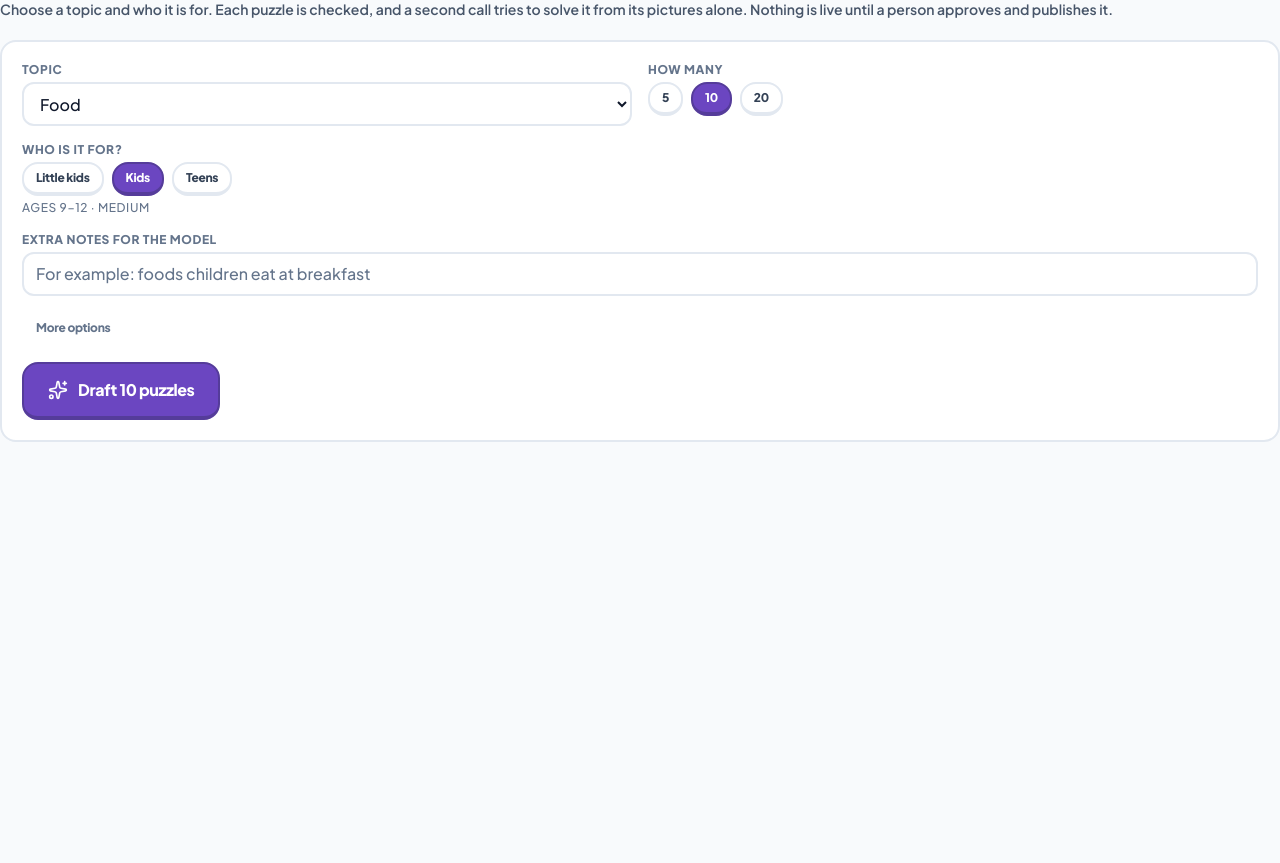
choosing what to keep › approves the ticked puzzles now, and leaves out one that was unticked
Click the button "Draft 10 puzzles" at (121, 391), box [22,362,220,420]
(page scrolled)
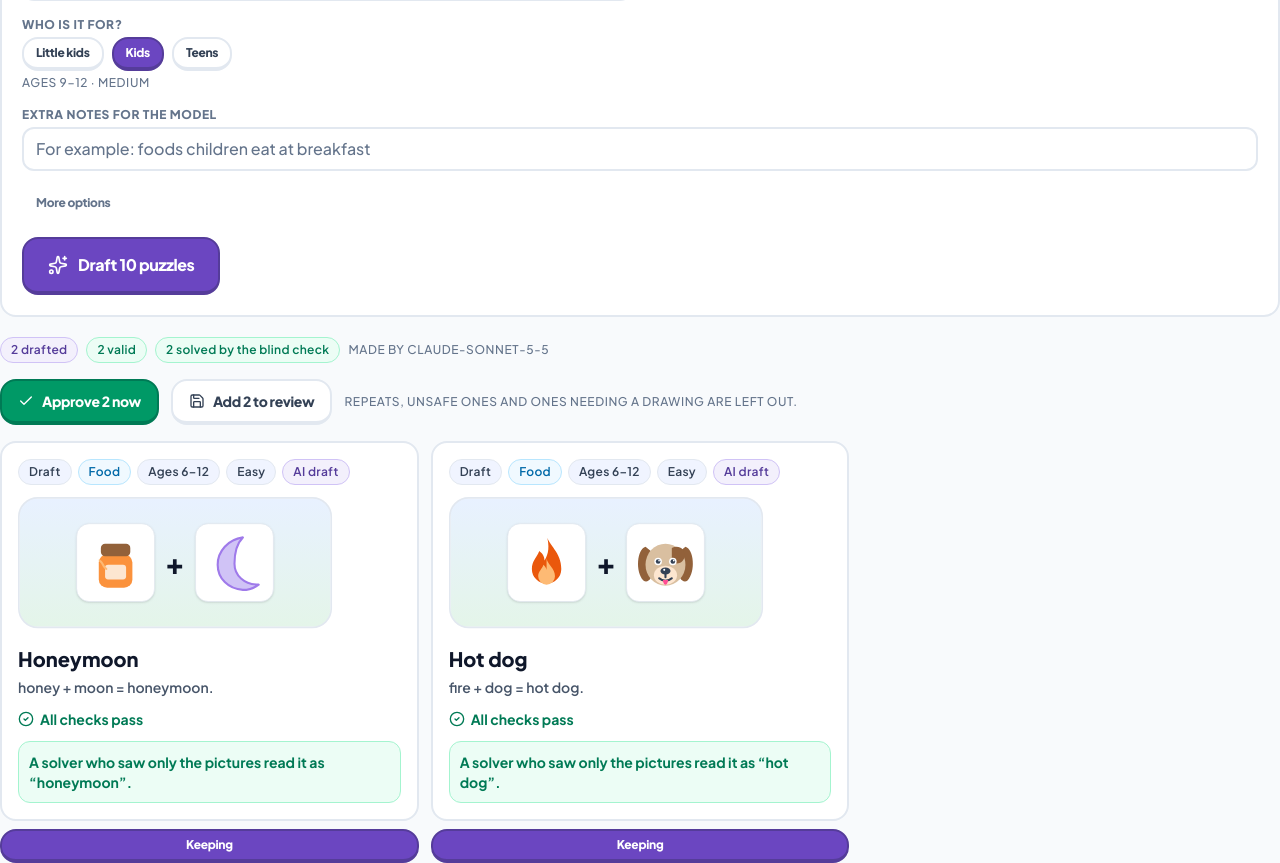
Result: the element "Honeymoon" is shown at [0,441,419,821]
Click the button "Keeping" below "fire + dog = hot dog." at (640, 846), box [431,829,849,862]
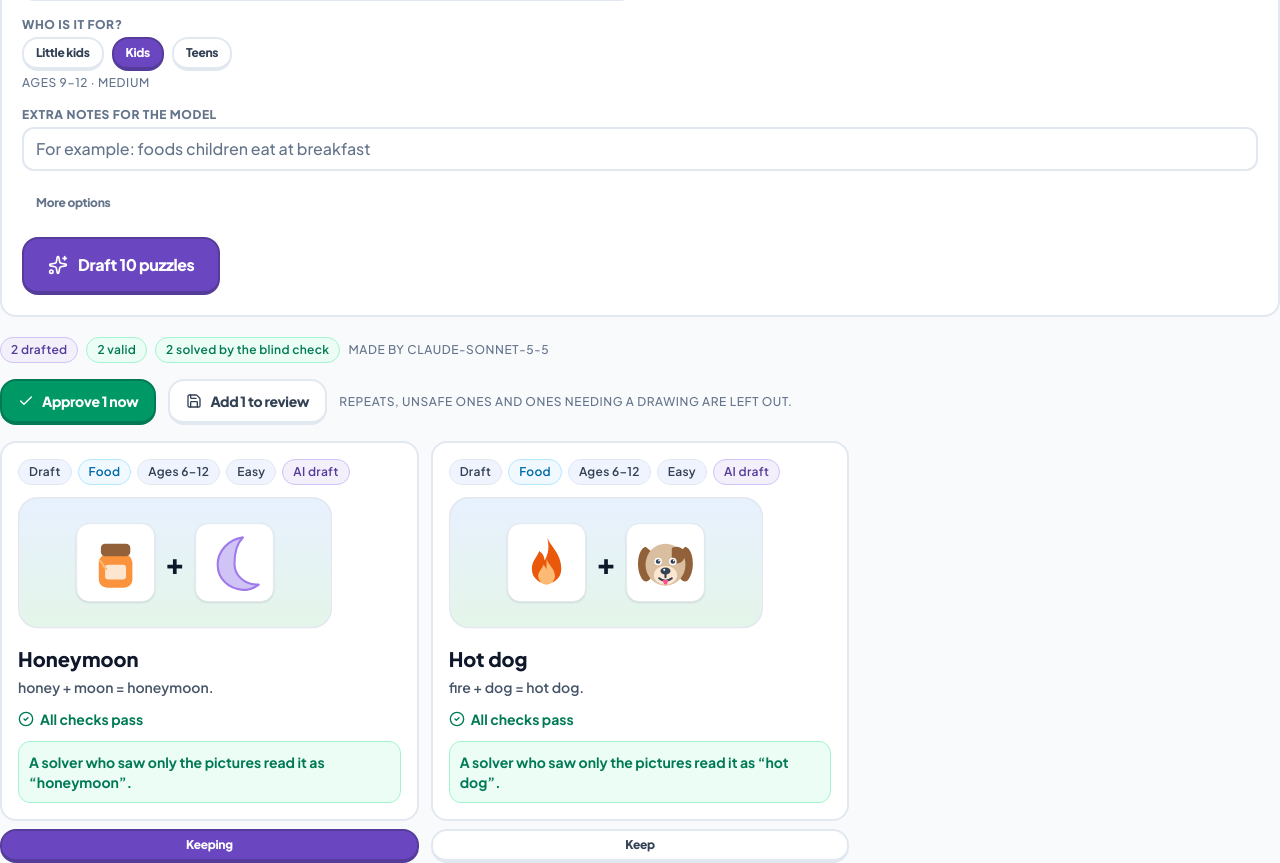
Click the button "Approve 1 now" at (78, 402), box [0,379,156,425]
(page scrolled)
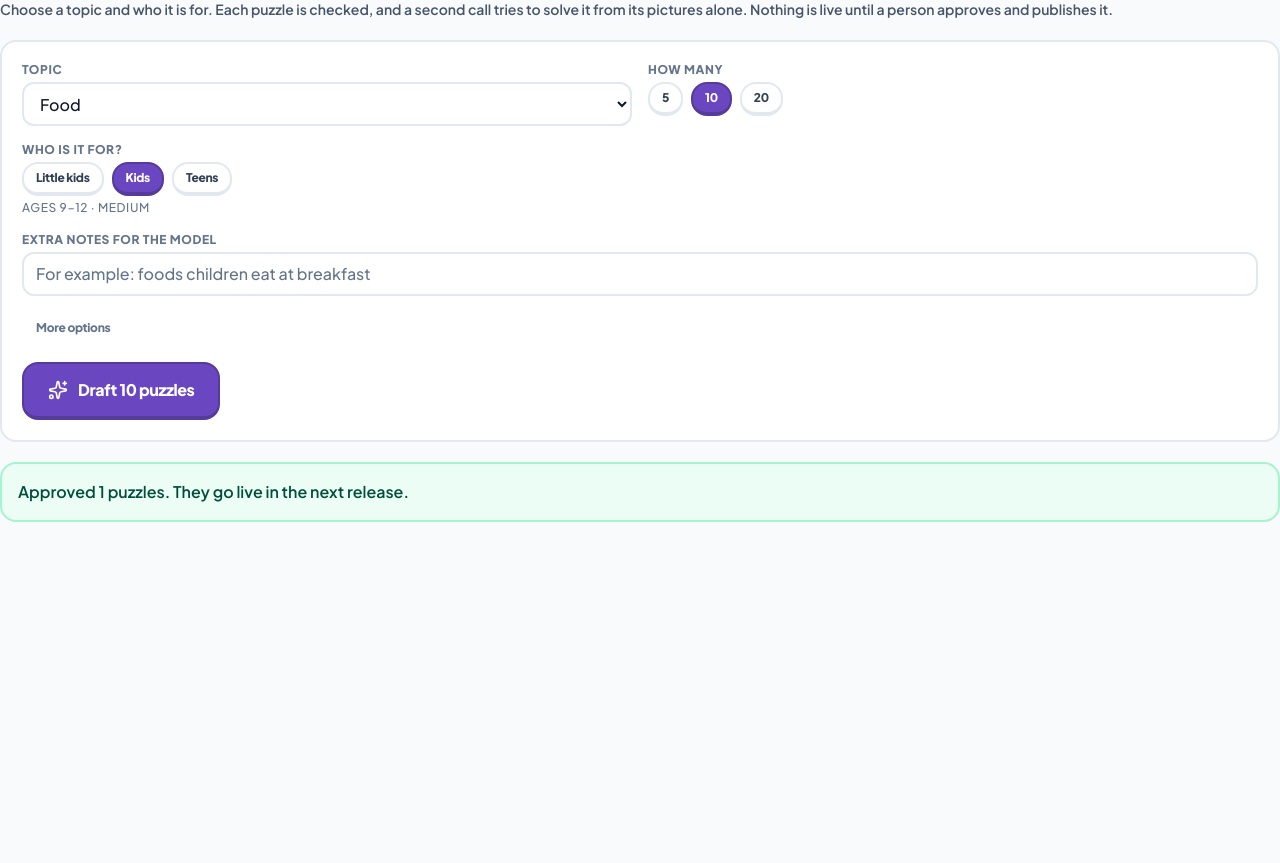
Result: the text "Approved 1 puzzles. They go live in the next release." is shown at [0,462,1279,522]
